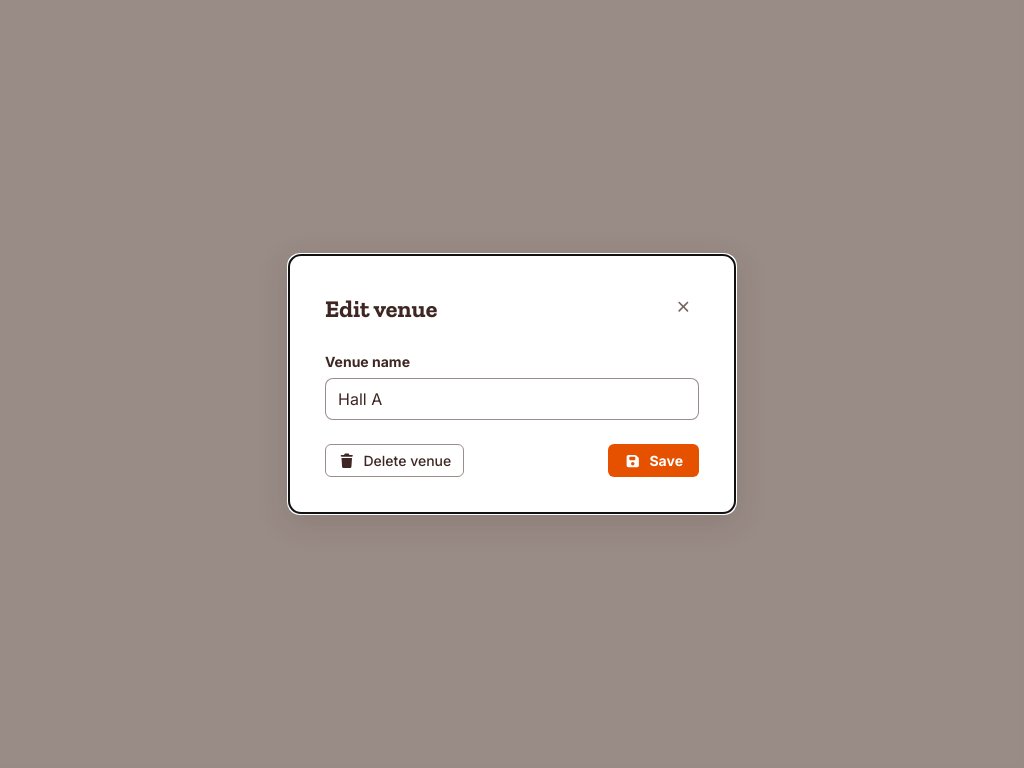
VenueEditModal › maps server errors
Click the button with test id "venue-edit-save". click: (654, 460)
box: 608,444 -> 699,477
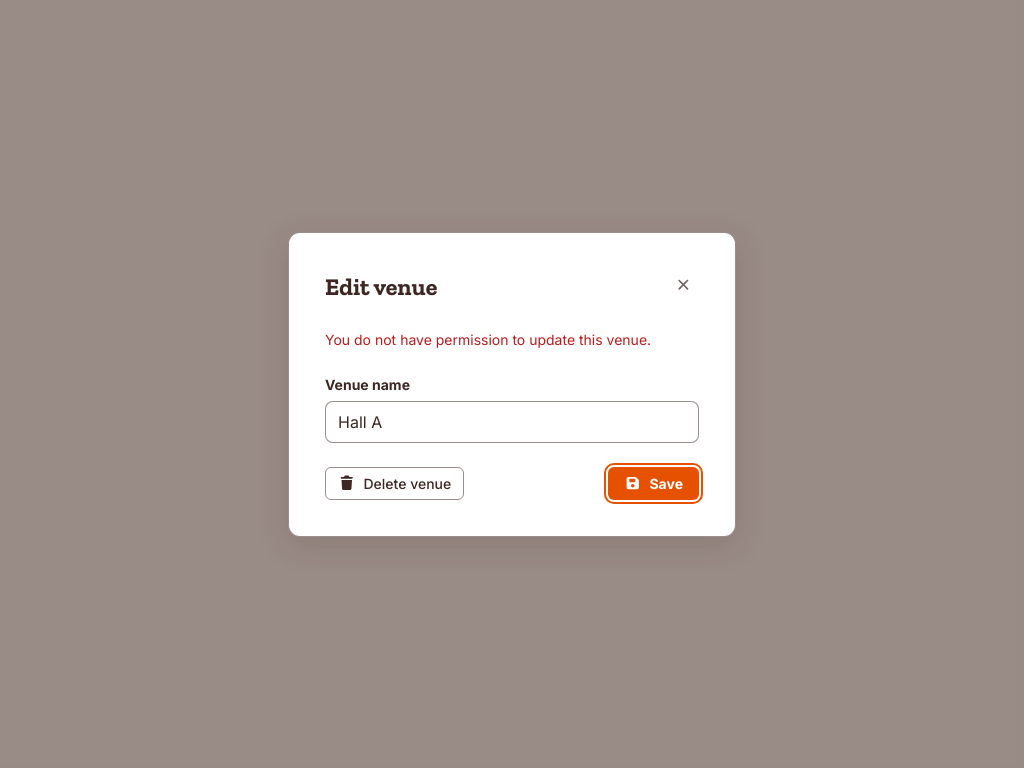
Check: the text "You do not have permission to update this venue." is shown, box 325,328 -> 699,350
